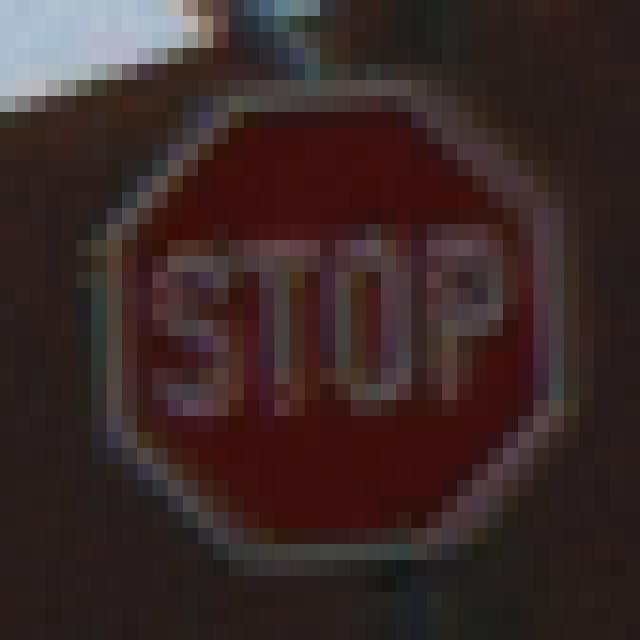STOP: (92, 81, 565, 561)
